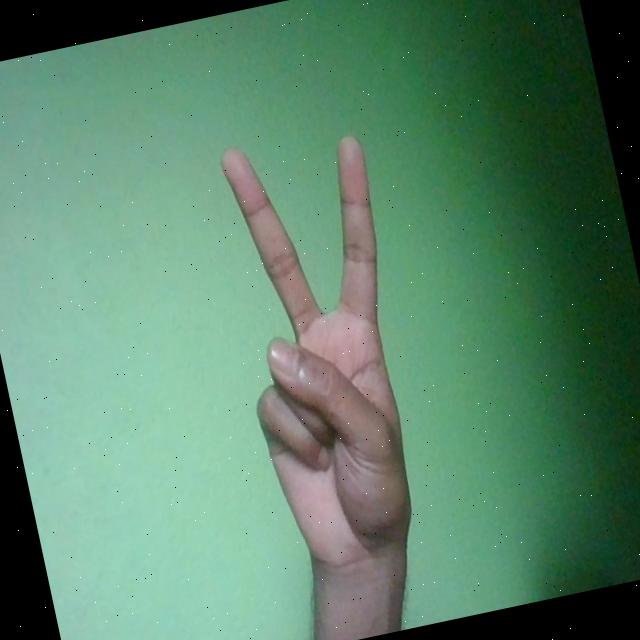Fist: (200, 119, 449, 594)
